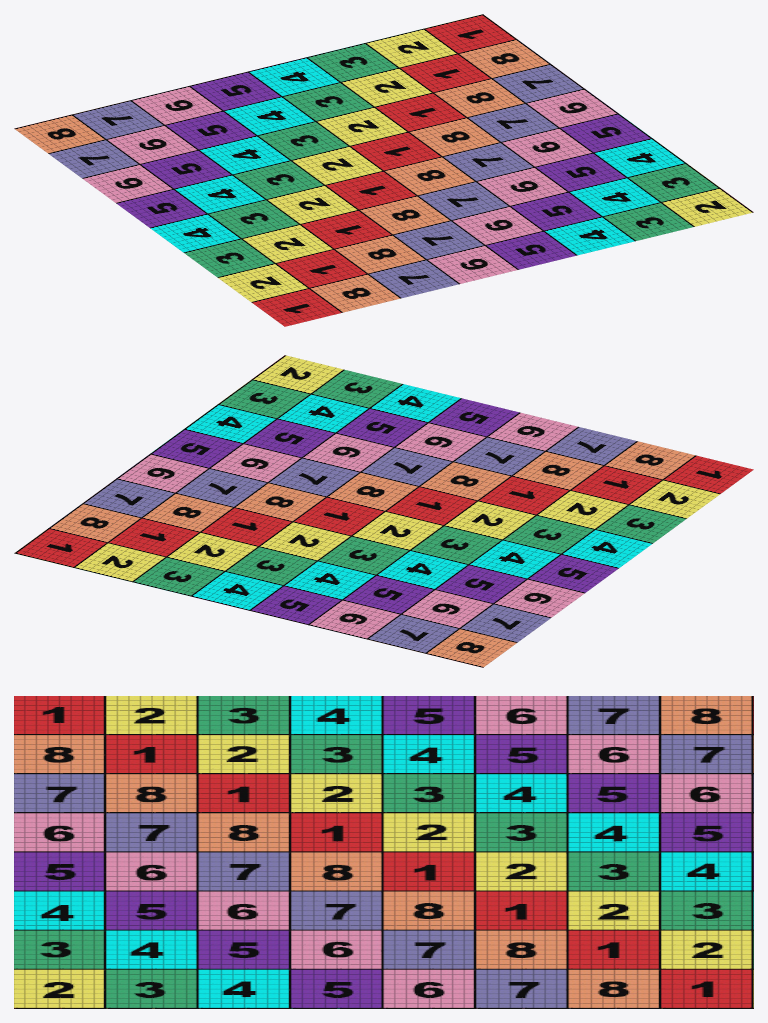
The model's file is watertess_ring3_edge.fbx.
The picture shows the model from 3 angles, top to bottom: view 1: azimuth 30°, elevation 25°; view 2: azimuth 150°, elevation 25°; view 3: azimuth 270°, elevation 25°; orthographic projection. The views are drawn at different scales.
Parts seen in each view (by area): view 1: watertess_ring3_edge; view 2: watertess_ring3_edge; view 3: watertess_ring3_edge.
Part boxes in pixels (<box>): watertess_ring3_edge: <box>14,14,753,326</box>; watertess_ring3_edge: <box>14,355,753,667</box>; watertess_ring3_edge: <box>14,696,753,1008</box>.
Bounding box in the file's own units: 128 × 2.09e-05 × 128.
